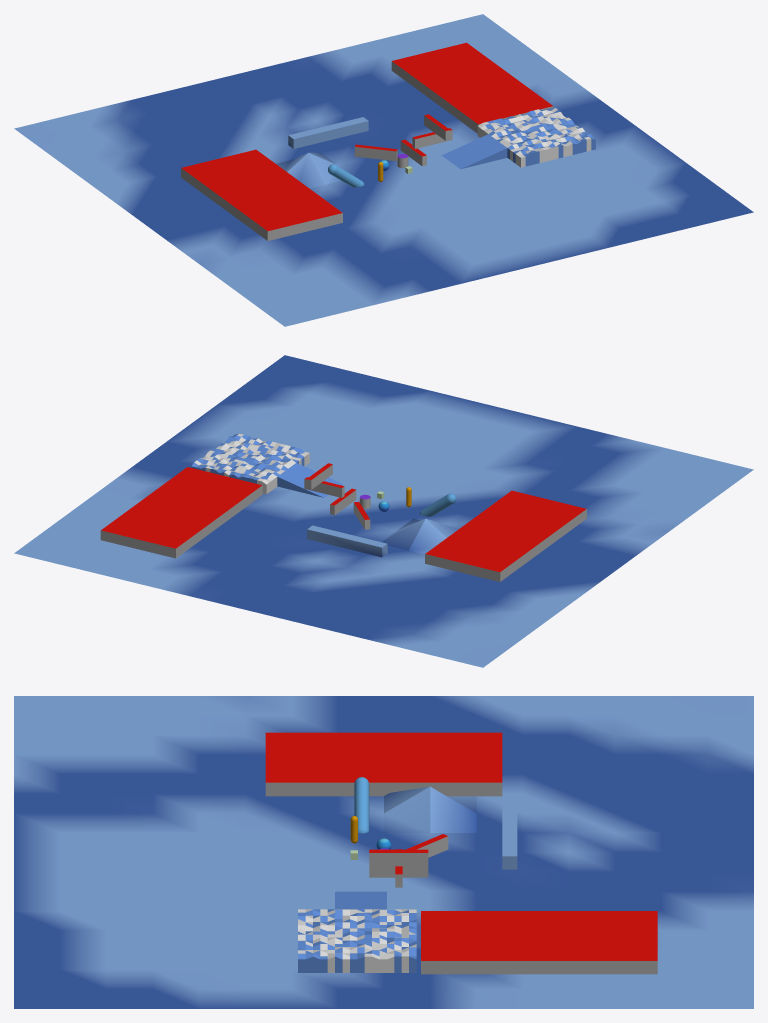
The model's file is bounds.glb.
The picture shows the model from 3 angles, top to bottom: view 1: azimuth 30°, elevation 25°; view 2: azimuth 150°, elevation 25°; view 3: azimuth 270°, elevation 25°; orthographic projection. The views are drawn at different scales.
Visible parts, largest first — view 1: Ground, Cube.003, Cube.004, Plane, Cube.006; view 2: Ground, Cube.004, Cube.003, Plane; view 3: Ground, Cube.004, Cube.003, Plane, Cube.002, StaticCapsule, Cube.007.
Part boxes in pixels (x1,y1,x2,y2): Ground: (14,14,753,326); Cube.003: (181,149,342,240); Cube.004: (391,42,553,133); Plane: (442,107,595,169); Cube.006: (354,144,397,161); Ground: (14,355,753,667); Cube.004: (100,467,262,558); Cube.003: (425,490,586,581); Plane: (191,433,342,497); Ground: (14,696,753,1008); Cube.004: (421,911,657,974); Cube.003: (265,732,502,796); Plane: (298,891,416,972); Cube.002: (369,849,428,866); StaticCapsule: (354,777,369,833); Cube.007: (369,866,428,877).
Bounding box in the file's own units: 100 × 7.18 × 100.
